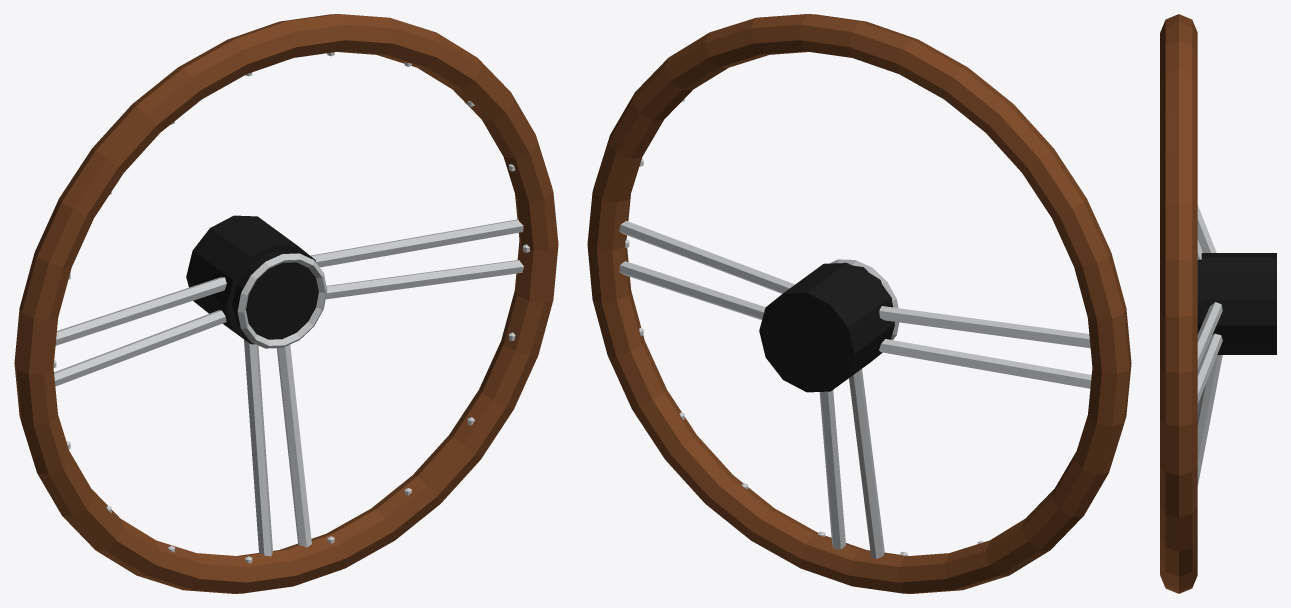
File: wheel_wood.glb
3 views of the same model, side by side, from view 1: azimuth 30°, elevation 25°; view 2: azimuth 150°, elevation 25°; view 3: azimuth 270°, elevation 25° (orthographic). The views are drawn at different scales.
Parts seen in each view (by area): view 1: SteeringWheel; view 2: SteeringWheel; view 3: SteeringWheel.
Boxes of the visible parts, bbox=[...] form: SteeringWheel: bbox=[14, 14, 558, 593]; SteeringWheel: bbox=[587, 14, 1131, 593]; SteeringWheel: bbox=[1160, 14, 1276, 593].
Bounding box in the file's own units: 0.385 × 0.385 × 0.0775.
